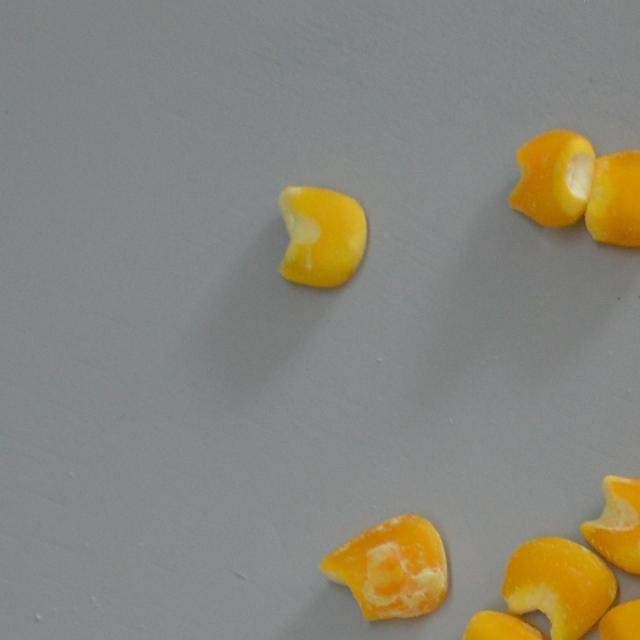no_canjicado: (498, 533, 622, 640), (509, 126, 596, 233), (575, 469, 640, 579), (596, 596, 640, 640)
no_desgerminado: (272, 181, 370, 292), (584, 148, 640, 250)
pelicula: (314, 506, 454, 626), (458, 607, 560, 640)
